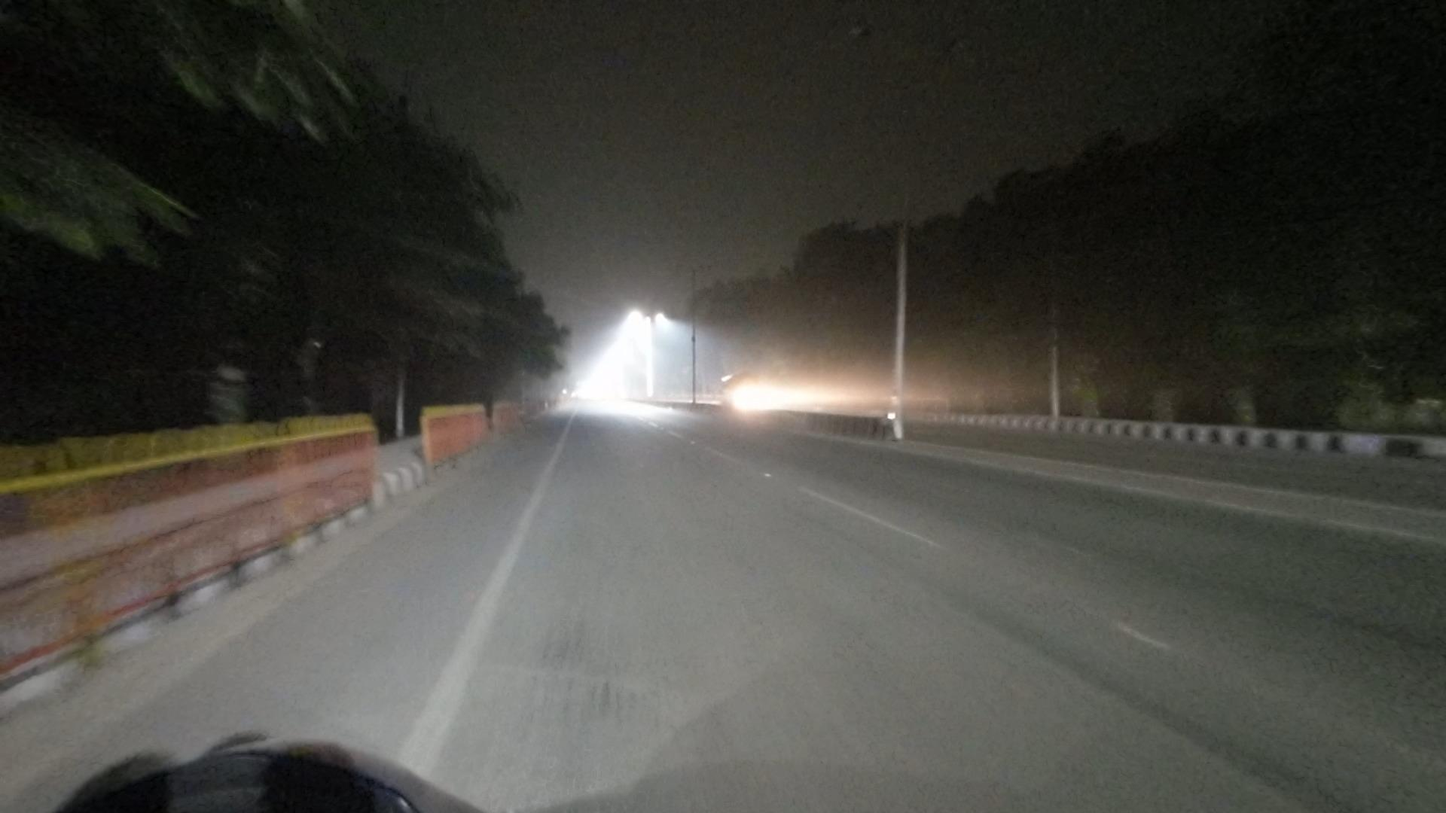streetlight: (849, 17, 905, 47), (926, 34, 971, 52)
